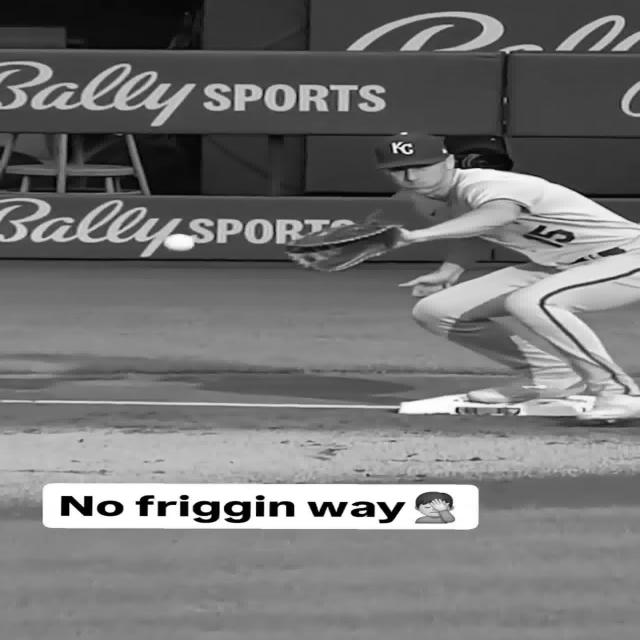base: (398, 394, 596, 416)
baseball: (162, 234, 196, 251)
baseball_glove: (287, 221, 400, 271)
shoe: (467, 372, 587, 404), (578, 391, 640, 421)
